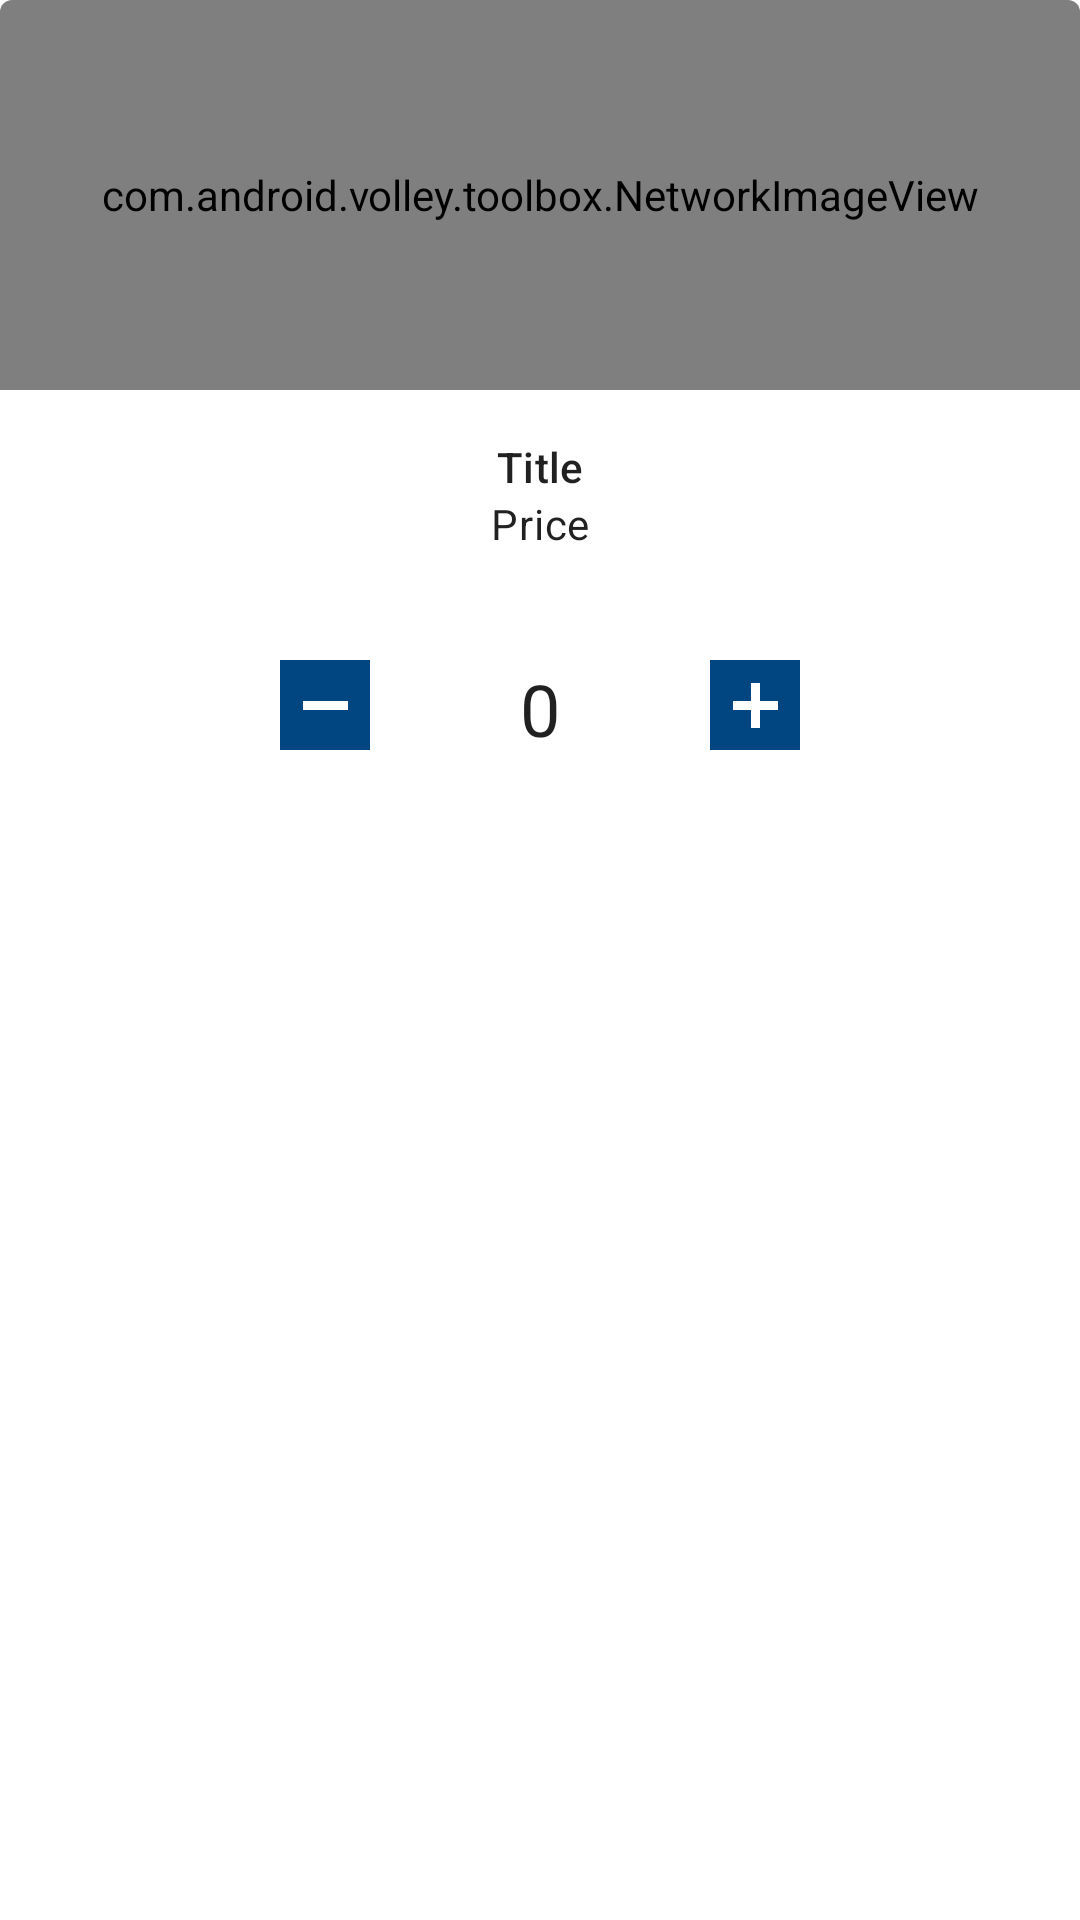

Screen size 1080 x 1920. Icon name, then its box in pixels as (x1, y1, x2, y2):
addition: (710, 660, 800, 750)
subtract: (280, 660, 370, 750)
